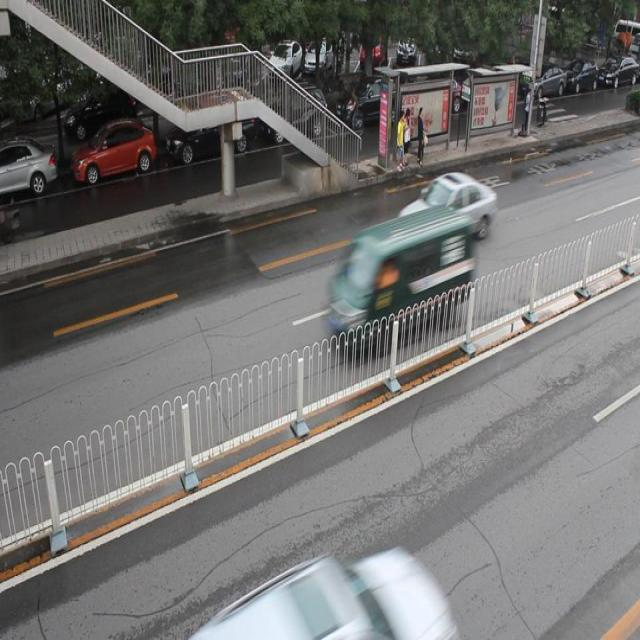car: (206, 545, 450, 640), (394, 171, 497, 243), (71, 121, 156, 186), (167, 104, 253, 159), (333, 77, 400, 133), (1, 136, 56, 198), (260, 90, 325, 142)
truck: (321, 205, 471, 347)
